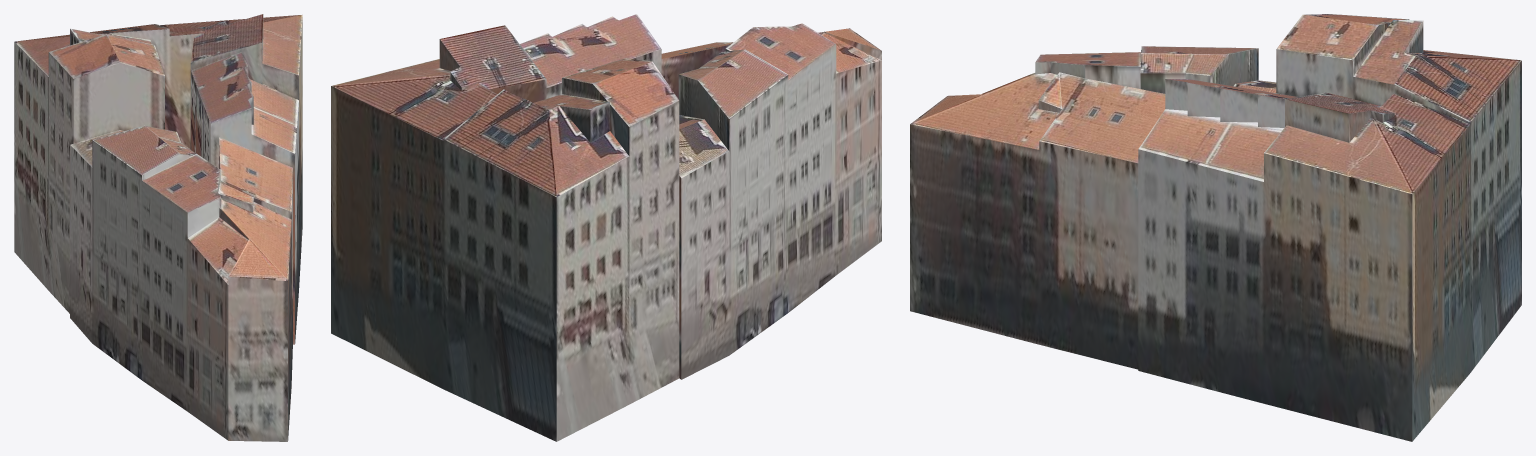
Rendered from LYON_1ER_00056.dae.
The picture shows the model from 3 angles, left to right: view 1: azimuth 30°, elevation 25°; view 2: azimuth 150°, elevation 25°; view 3: azimuth 270°, elevation 25°; orthographic projection. The views are drawn at different scales.
Bounding box in the file's own units: 35.64 × 58.62 × 31.42.
Materials: 1 (1 with a texture image).
